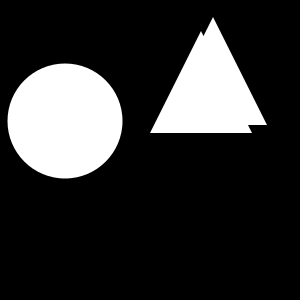rectangle: (7, 63, 122, 178)
triangle: (159, 17, 267, 125), (150, 31, 252, 133)
